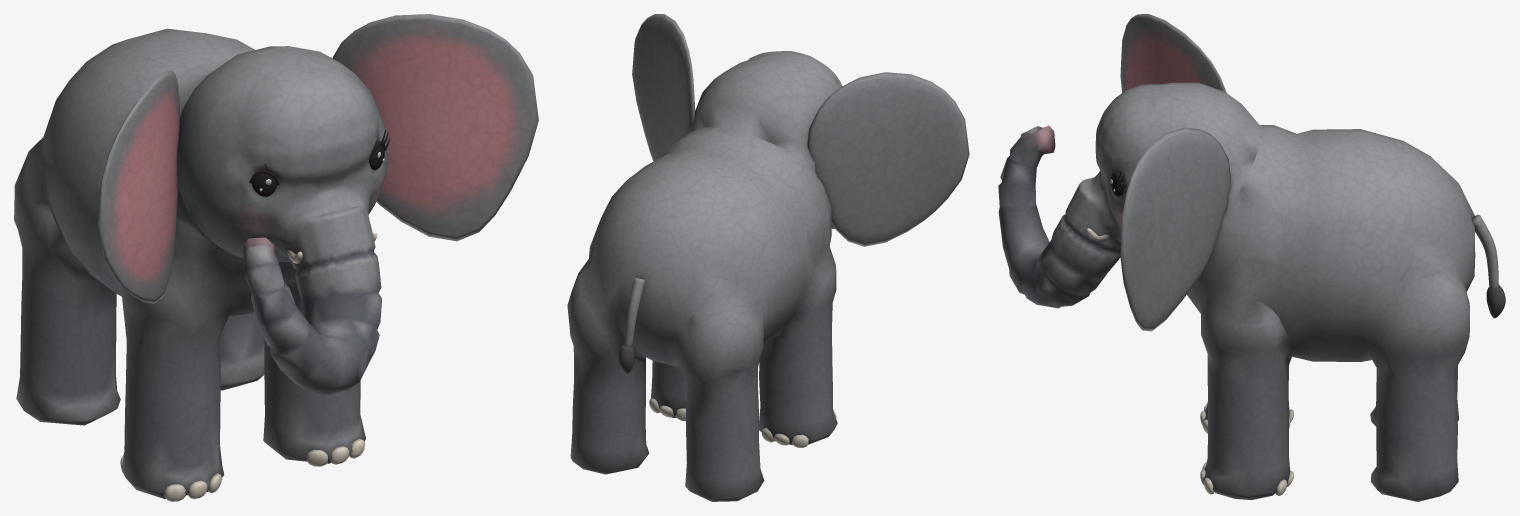
File: elephant.fbx
3 renders of one model, left to right at view 1: azimuth 30°, elevation 25°; view 2: azimuth 150°, elevation 25°; view 3: azimuth 270°, elevation 25°, orthographic. The views are drawn at different scales.
Parts seen in each view (by area): view 1: Elephant_Body, Elephant_Eyes; view 2: Elephant_Body; view 3: Elephant_Body.
Part boxes in pixels (box(x1,y1,x2,y2)): Elephant_Body: box(14, 14, 538, 501); Elephant_Eyes: box(252, 143, 384, 196); Elephant_Body: box(567, 14, 969, 501); Elephant_Body: box(998, 14, 1505, 501).
Bounding box in the file's own units: 2.91 × 2.89 × 3.45.
2 materials, 1 textured.
